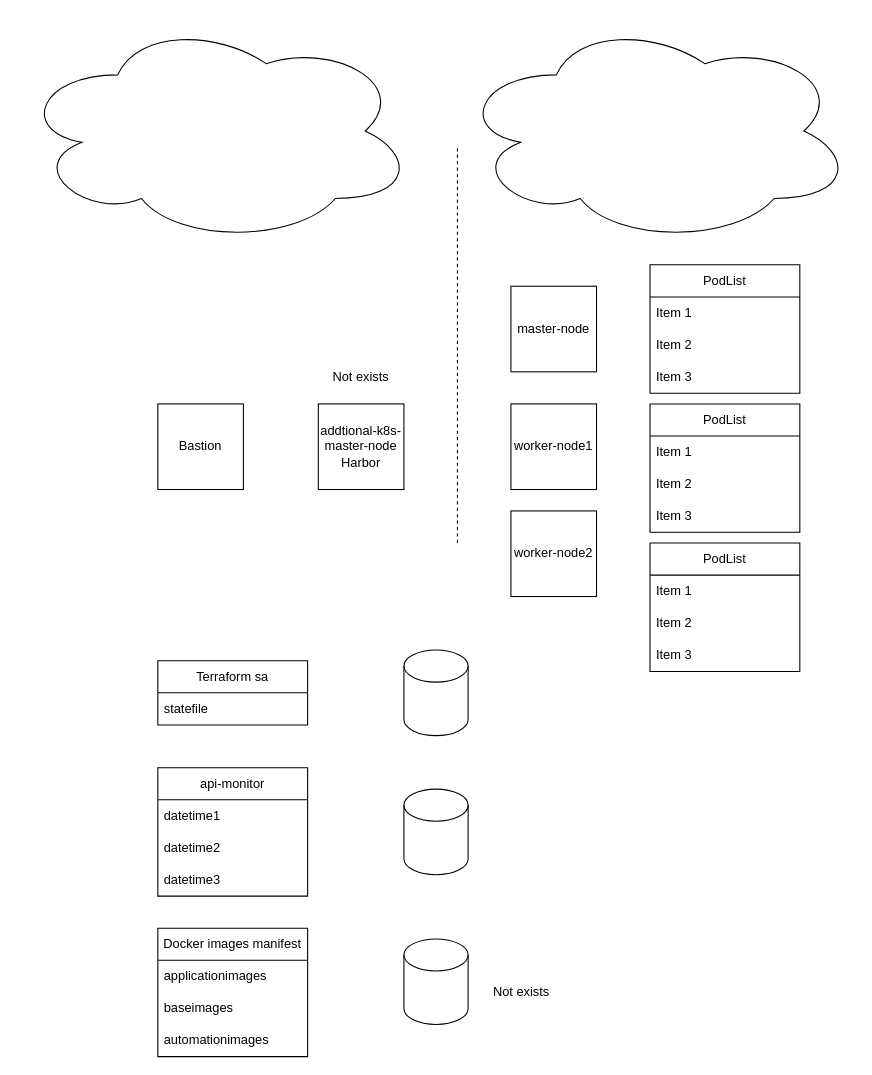
The diagram is 872 pixels wide and 1075 high, and some of its shapes have lost their labels. The centre of each missing label's shape, as x and y in pixels:
"VPC-hk" belongs at point 216,130.
"VPC-sz" belongs at point 654,130.
